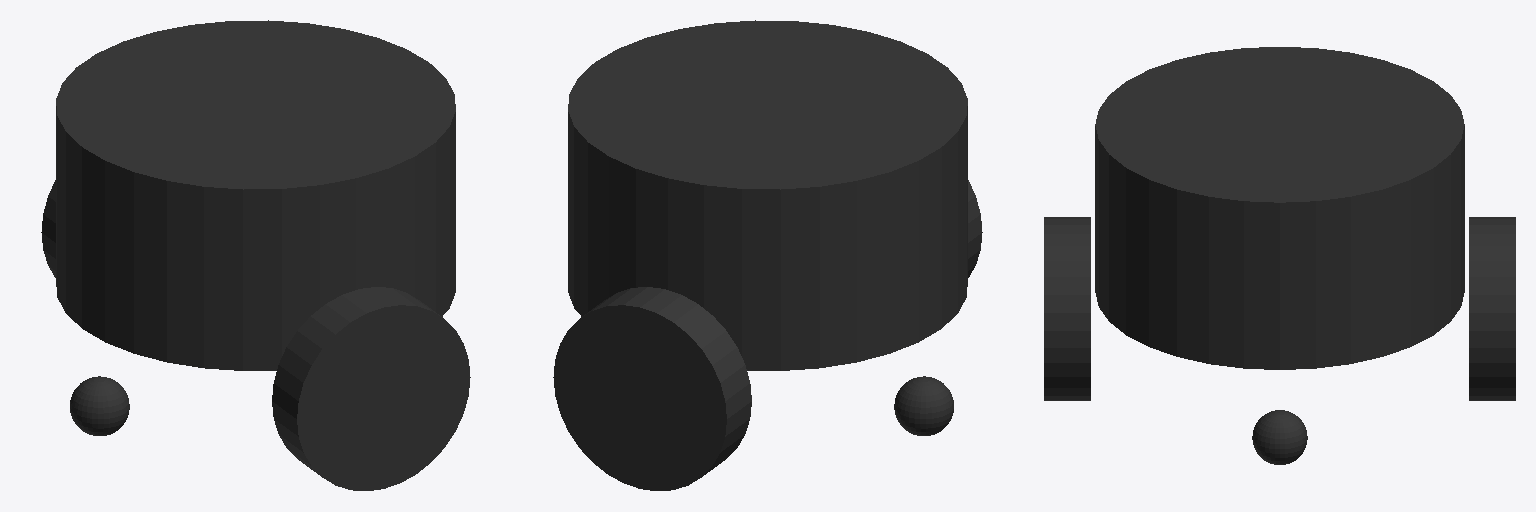
The robot description file, URDF, robot "tiago_base":
<?xml version="1.0"?>
<robot name="tiago_base">
  <material name="tiago_white">
    <color rgba="0.85 0.85 0.85 1.0"/>
  </material>
  <material name="tiago_dark">
    <color rgba="0.25 0.25 0.25 1.0"/>
  </material>

  <link name="base_link">
    <visual>
      <origin xyz="0 0 0.22" rpy="0 0 0"/>
      <geometry>
        <cylinder radius="0.20" length="0.20"/>
      </geometry>
      <material name="tiago_dark"/>
    </visual>
    <collision>
      <origin xyz="0 0 0.22" rpy="0 0 0"/>
      <geometry>
        <cylinder radius="0.22" length="0.20"/>
      </geometry>
    </collision>
  </link>

  <link name="base_footprint"/>

  <link name="left_wheel_link">
    <visual>
      <origin xyz="0 0 0" rpy="0 0 0"/>
      <geometry>
        <cylinder radius="0.10" length="0.05"/>
      </geometry>
      <material name="tiago_dark"/>
    </visual>
    <collision>
      <origin xyz="0 0 0" rpy="0 0 0"/>
      <geometry>
        <cylinder radius="0.10" length="0.05"/>
      </geometry>
    </collision>
  </link>

  <link name="right_wheel_link">
    <visual>
      <origin xyz="0 0 0" rpy="0 0 0"/>
      <geometry>
        <cylinder radius="0.10" length="0.05"/>
      </geometry>
      <material name="tiago_dark"/>
    </visual>
    <collision>
      <origin xyz="0 0 0" rpy="0 0 0"/>
      <geometry>
        <cylinder radius="0.10" length="0.05"/>
      </geometry>
    </collision>
  </link>

  <link name="caster_front_link">
    <visual>
      <geometry>
        <sphere radius="0.03"/>
      </geometry>
      <material name="tiago_dark"/>
    </visual>
    <collision>
      <geometry>
        <sphere radius="0.03"/>
      </geometry>
    </collision>
  </link>

  <link name="caster_rear_link">
    <visual>
      <geometry>
        <sphere radius="0.03"/>
      </geometry>
      <material name="tiago_dark"/>
    </visual>
    <collision>
      <geometry>
        <sphere radius="0.03"/>
      </geometry>
    </collision>
  </link>

  <link name="torso_fixed_link">
    <visual>
      <geometry>
        <mesh filename="package://mfja_3rd_floor_description/models/tiago/meshes/torso/torso_fix.stl"/>
      </geometry>
      <material name="tiago_white"/>
    </visual>
    <collision>
      <geometry>
        <mesh filename="package://mfja_3rd_floor_description/models/tiago/meshes/torso/torso_fix.stl"/>
      </geometry>
    </collision>
  </link>

  <link name="torso_lift_link">
    <visual>
      <geometry>
        <mesh filename="package://mfja_3rd_floor_description/models/tiago/meshes/torso/torso_lift_with_arm.stl"/>
      </geometry>
      <material name="tiago_white"/>
    </visual>
    <collision>
      <geometry>
        <mesh filename="package://mfja_3rd_floor_description/models/tiago/meshes/torso/torso_lift_with_arm.stl"/>
      </geometry>
    </collision>
  </link>

  <joint name="base_footprint_joint" type="fixed">
    <origin xyz="0 0 0" rpy="0 0 0"/>
    <parent link="base_link"/>
    <child link="base_footprint"/>
  </joint>

  <joint name="left_wheel_joint" type="continuous">
    <origin xyz="0 0.23 0.10" rpy="-1.57079632679 0 0"/>
    <parent link="base_link"/>
    <child link="left_wheel_link"/>
    <axis xyz="0 0 1"/>
  </joint>

  <joint name="right_wheel_joint" type="continuous">
    <origin xyz="0 -0.23 0.10" rpy="-1.57079632679 0 0"/>
    <parent link="base_link"/>
    <child link="right_wheel_link"/>
    <axis xyz="0 0 1"/>
  </joint>

  <joint name="caster_front_joint" type="fixed">
    <origin xyz="0.18 0 0.03" rpy="0 0 0"/>
    <parent link="base_link"/>
    <child link="caster_front_link"/>
  </joint>

  <joint name="caster_rear_joint" type="fixed">
    <origin xyz="-0.18 0 0.03" rpy="0 0 0"/>
    <parent link="base_link"/>
    <child link="caster_rear_link"/>
  </joint>

  <joint name="base_to_torso_fixed" type="fixed">
    <origin xyz="-0.062 0 0.193" rpy="0 0 0"/>
    <parent link="base_link"/>
    <child link="torso_fixed_link"/>
  </joint>

  <joint name="torso_lift_joint" type="prismatic">
    <origin xyz="0 0 0.597" rpy="0 0 0"/>
    <parent link="torso_fixed_link"/>
    <child link="torso_lift_link"/>
    <axis xyz="0 0 1"/>
    <limit lower="0.0" upper="0.35" effort="2000.0" velocity="0.07"/>
  </joint>

</robot>

--- Facts derived from the render (not from the file) ---
Views: 3 orthographic renders of the robot side by side, from view 1: azimuth 30°, elevation 25°; view 2: azimuth 150°, elevation 25°; view 3: azimuth 270°, elevation 25°.
Model tiago_base with 8 links and 7 joints (2 continuous, 1 prismatic, 4 fixed), rooted at base_link, posed every joint at zero.
Visible links, largest first — view 1: base_link, right_wheel_link, caster_rear_link, left_wheel_link; view 2: base_link, left_wheel_link, caster_rear_link, right_wheel_link; view 3: base_link, left_wheel_link, right_wheel_link, caster_front_link.
Boxes of the visible links, bbox=[...] form: base_link: bbox=[56, 20, 455, 370]; right_wheel_link: bbox=[272, 287, 470, 490]; caster_rear_link: bbox=[70, 376, 129, 435]; left_wheel_link: bbox=[41, 180, 55, 277]; base_link: bbox=[568, 20, 967, 370]; left_wheel_link: bbox=[553, 287, 751, 490]; caster_rear_link: bbox=[894, 376, 953, 435]; right_wheel_link: bbox=[968, 180, 982, 277]; base_link: bbox=[1095, 47, 1464, 369]; left_wheel_link: bbox=[1469, 217, 1515, 400]; right_wheel_link: bbox=[1044, 217, 1090, 400]; caster_front_link: bbox=[1252, 410, 1307, 464].
Size in the robot's own frame: 0.42 by 0.51 by 0.32 metres.
Meshes: 2 distinct files referenced, 0 mesh visuals loaded (none loaded); not drawn: 2 (reference not matched to a file when rendering).
